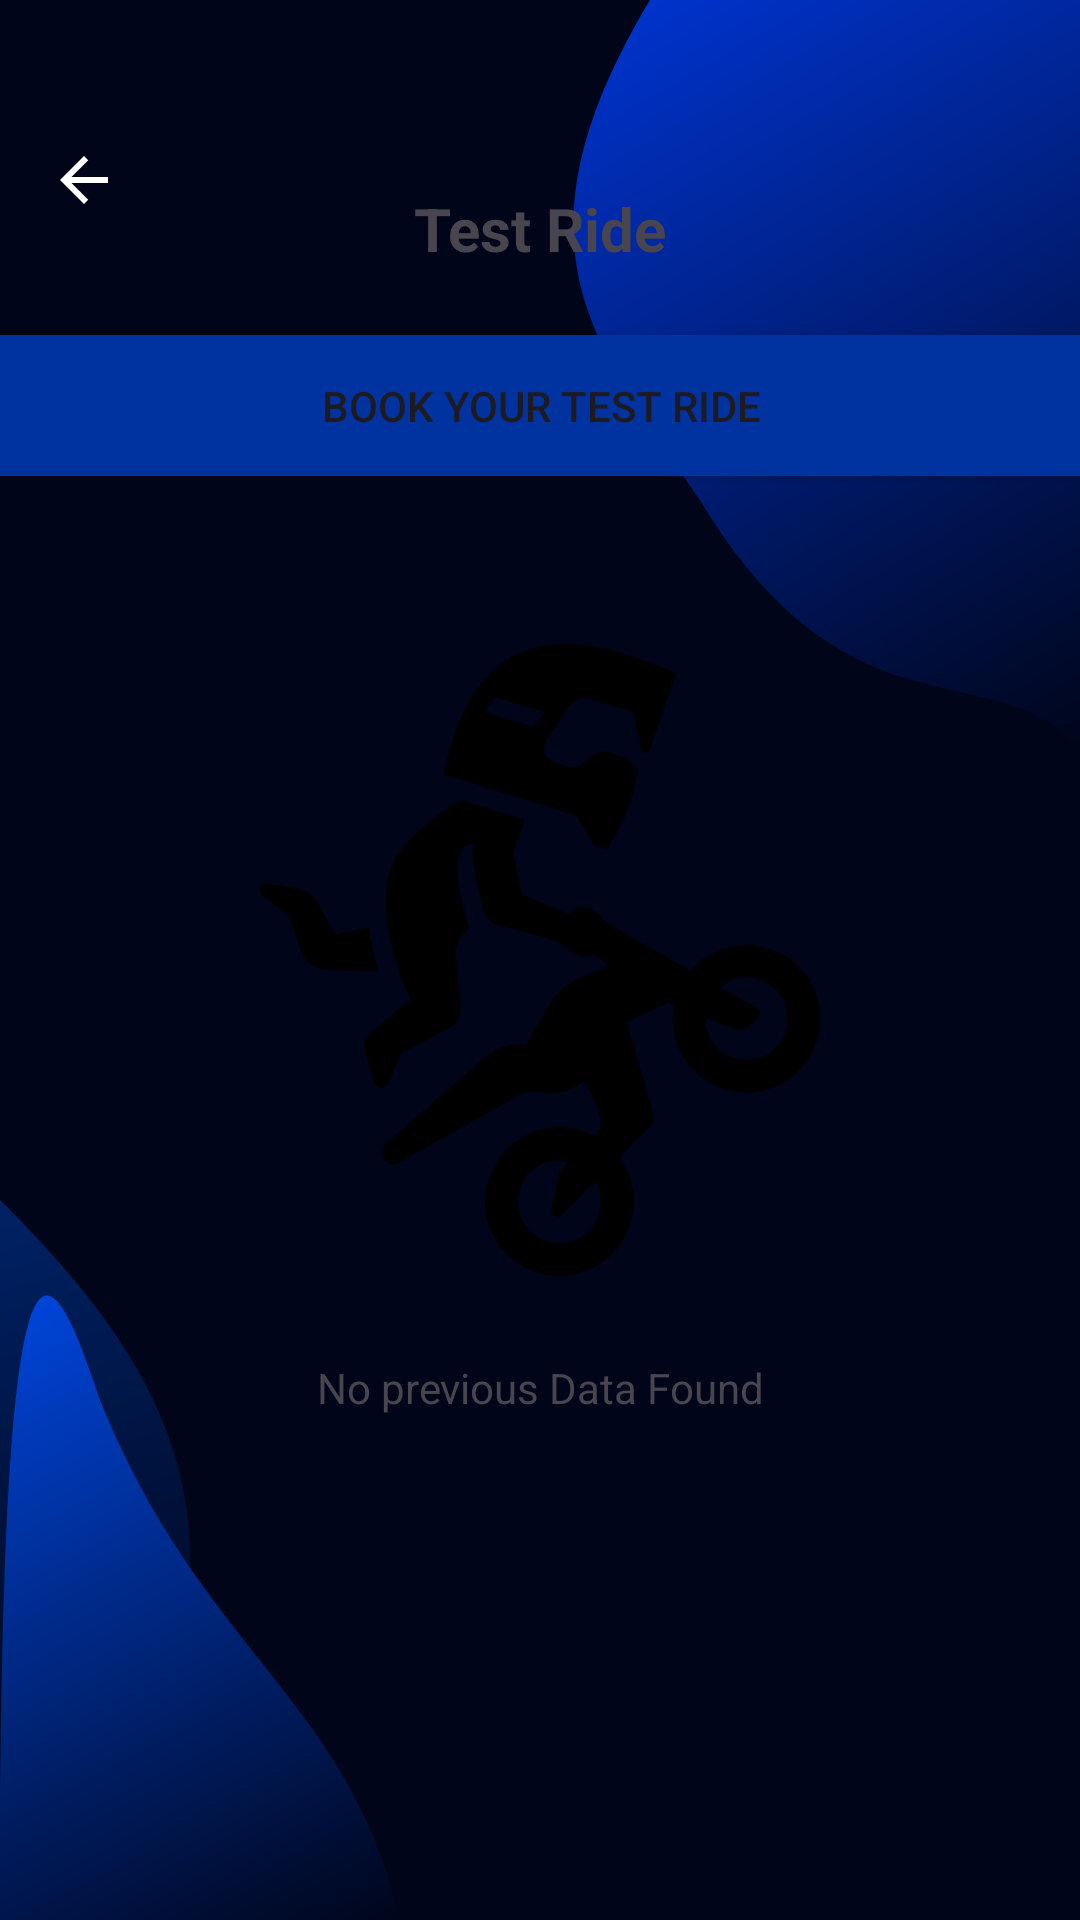

Locate icon controls on the screen. Image size 1080w x 1920h, boxes as (x1, y1, x2, y2).
back: (60, 156, 108, 204)
